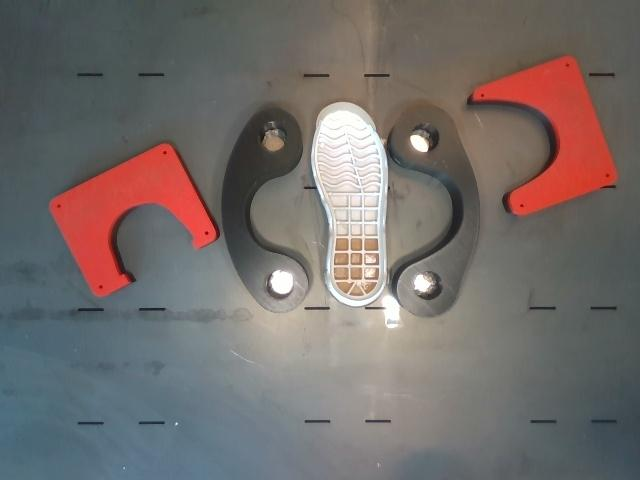shoes: (313, 103, 387, 302)
